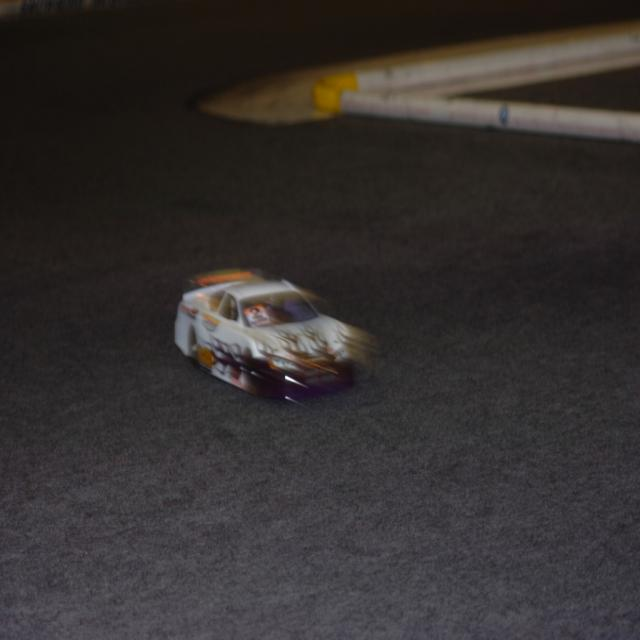car: (170, 266, 361, 407)
